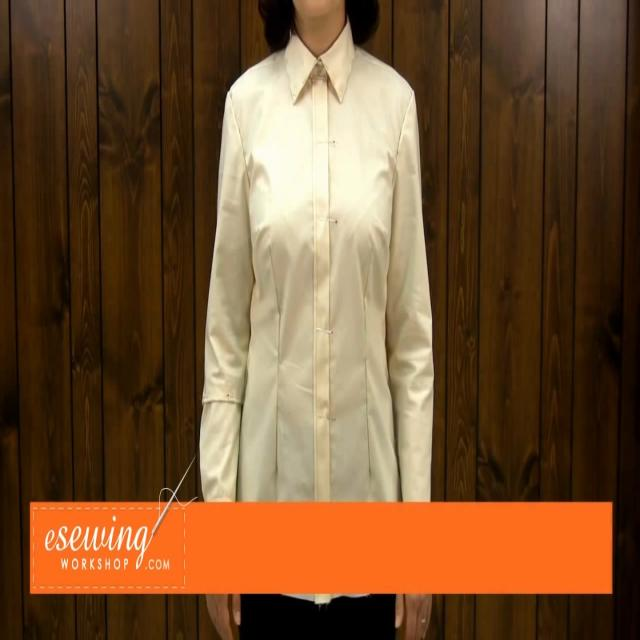Shirt: (199, 12, 435, 606)
